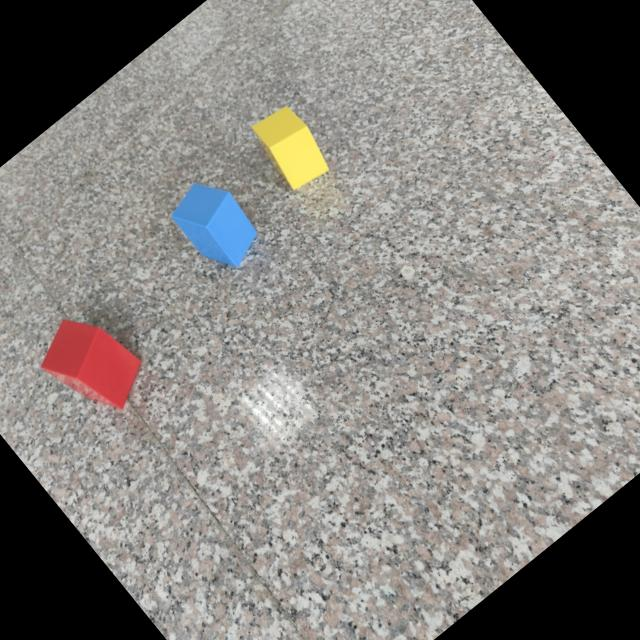blue: (173, 184, 259, 268)
red: (41, 319, 144, 412)
yellow: (253, 108, 330, 192)
